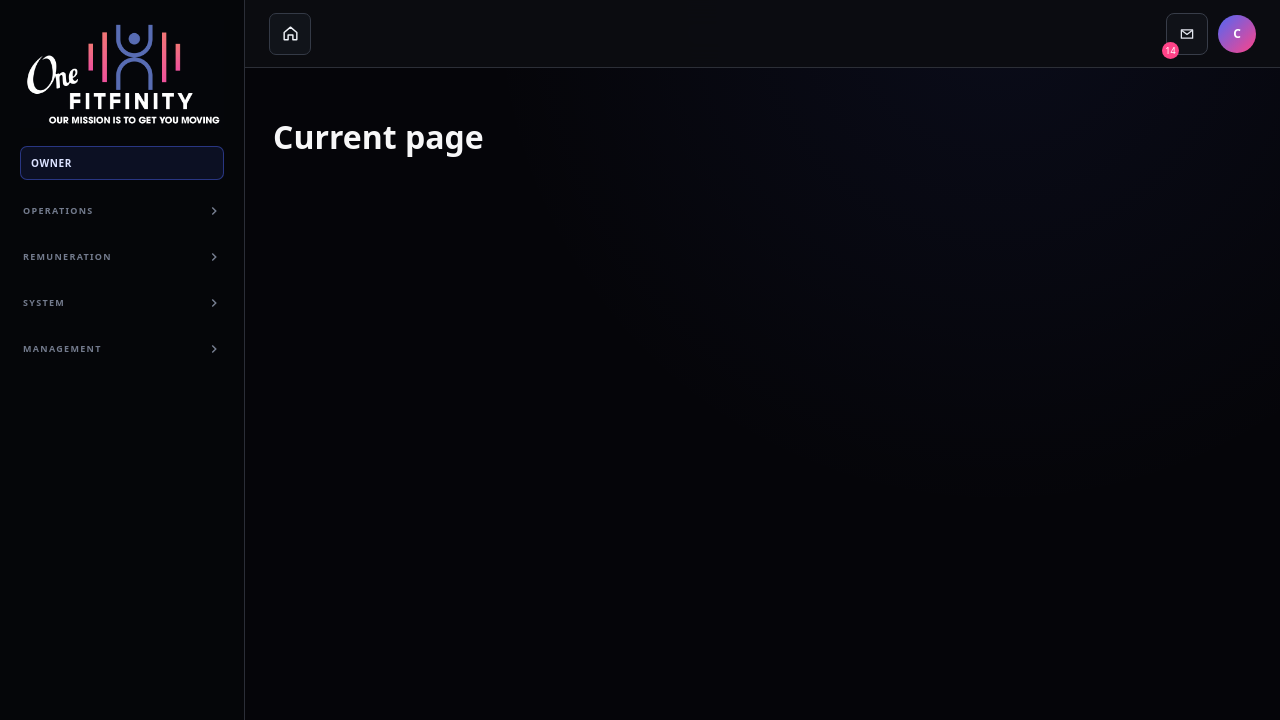
Scenario: keeps section choices collapsed or expanded consistently across drawer and fixed layouts
Step 1. Click the button with aria-label "System section" → (122, 303), box [13,287,231,319]
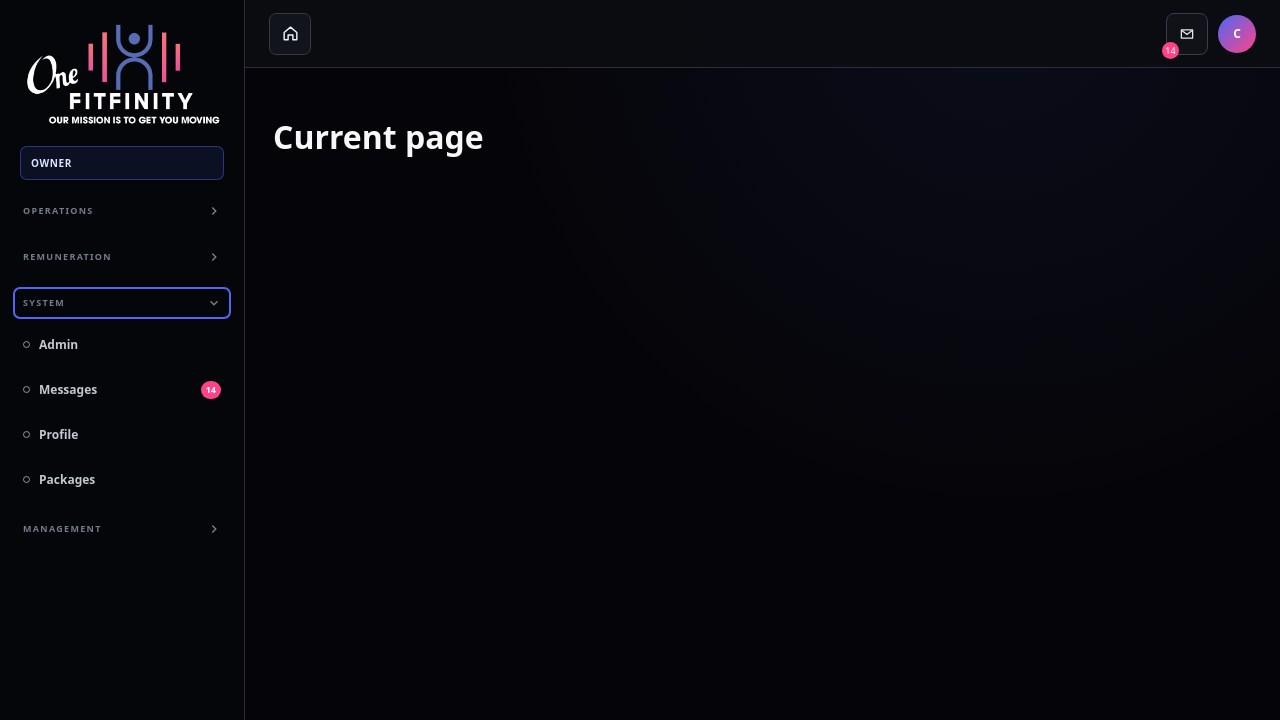
Check: the button "Exercise Library" is not shown
Check: the button with aria-label "System section" is expanded, box [13,287,231,319]
Step 2. Click the button with aria-label "Management section" → (122, 529), box [13,513,231,545]
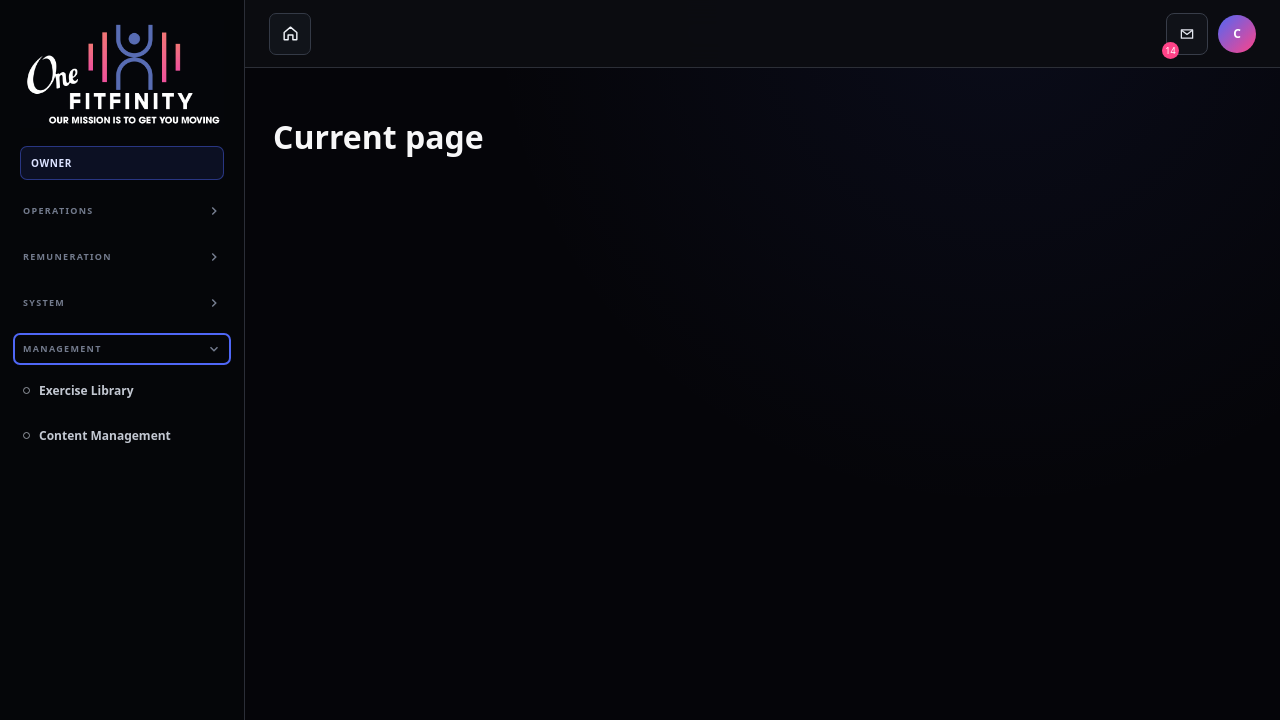
Check: the button "Content Management" is shown, box [13,415,231,457]
Check: the button with aria-label "System section" is collapsed, box [13,287,231,319]
Step 3. Click the button with aria-label "Management section" → (122, 349), box [13,333,231,365]
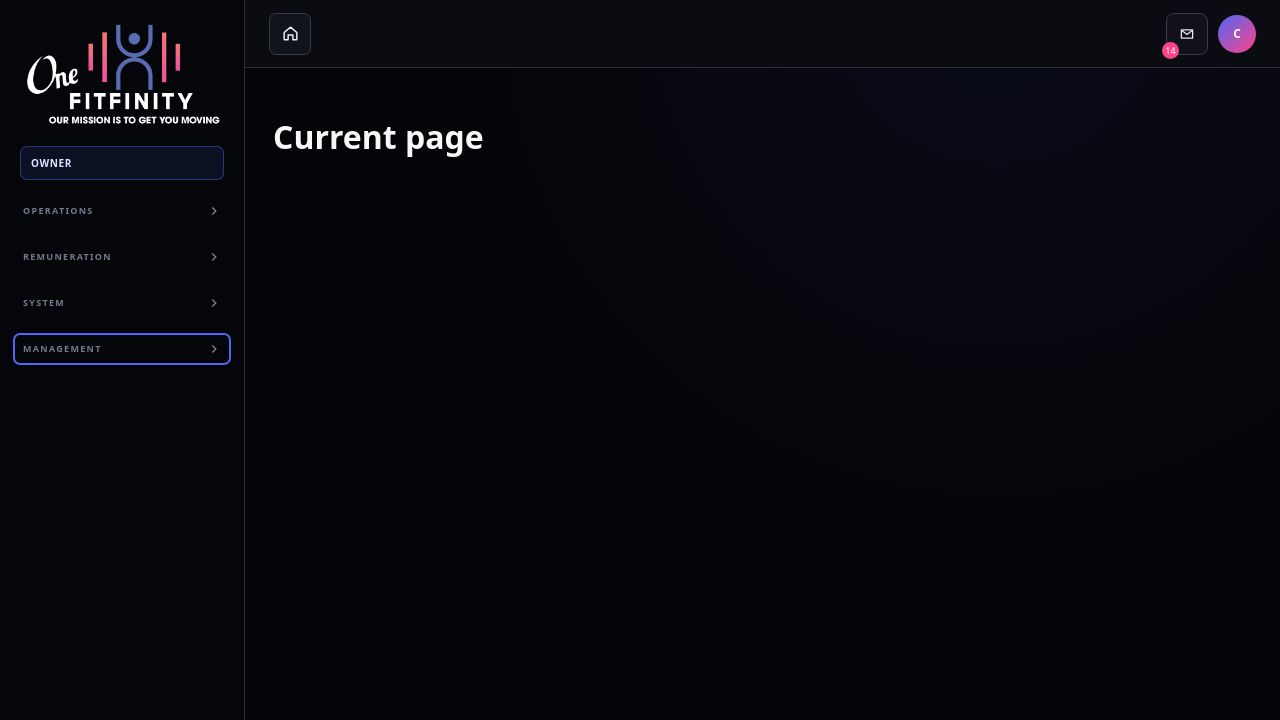
Check: the button with aria-label "System section" is collapsed, box [13,287,231,319]
Check: the button "Exercise Library" is gone
